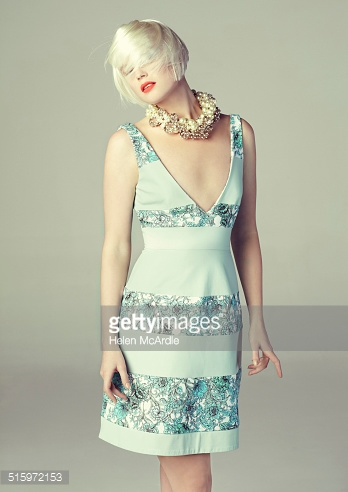em pe: (85, 0, 289, 463)
